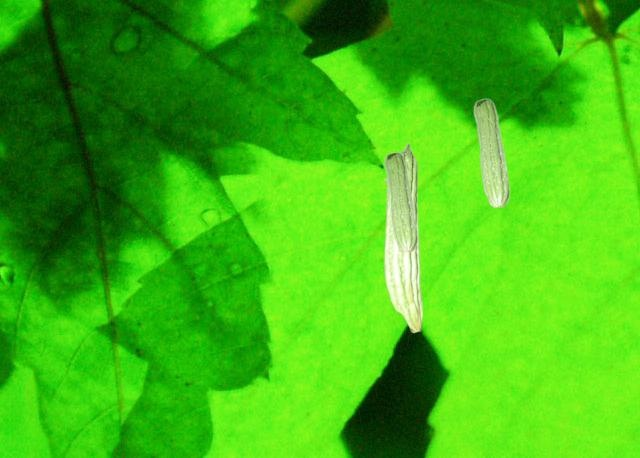ampalaya: (382, 142, 424, 333), (471, 96, 510, 208), (383, 150, 418, 254)
